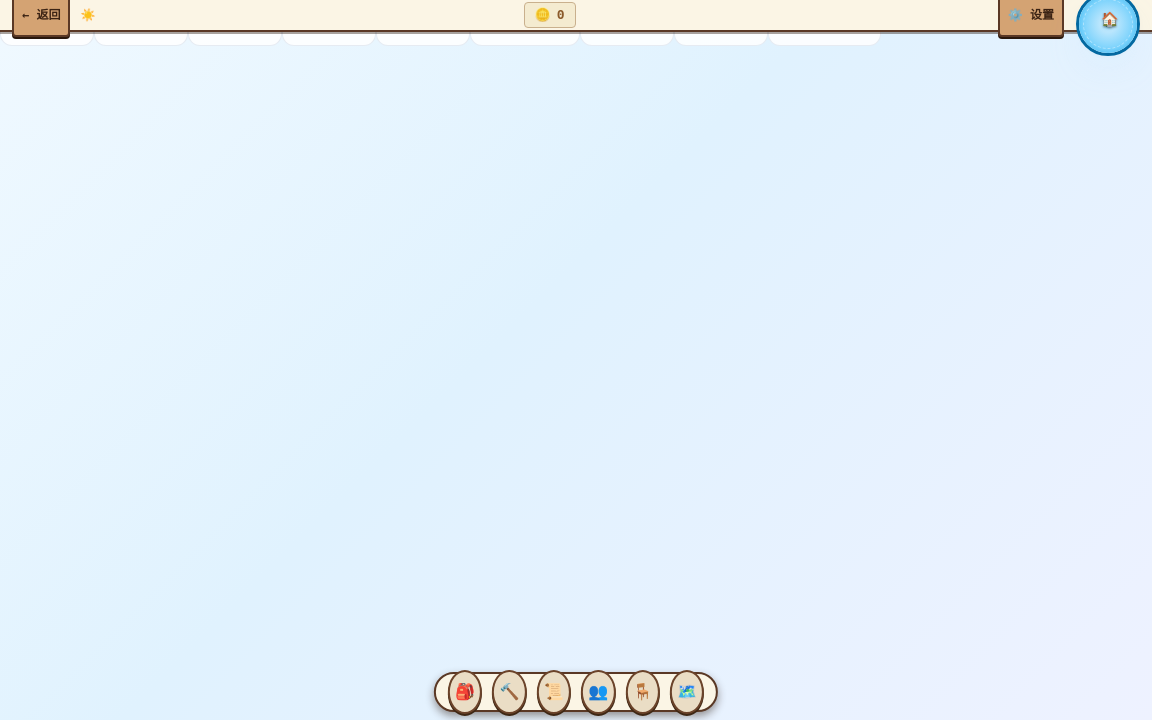
Test case: A6 · UI 像素化重构 (CabinHud) › 弹窗打开时点别的工具按钮是切换内容，而不是静默关闭
Click the button with test id "hud-btn-backpack".
click(465, 692)  # box [448, 670, 482, 714]
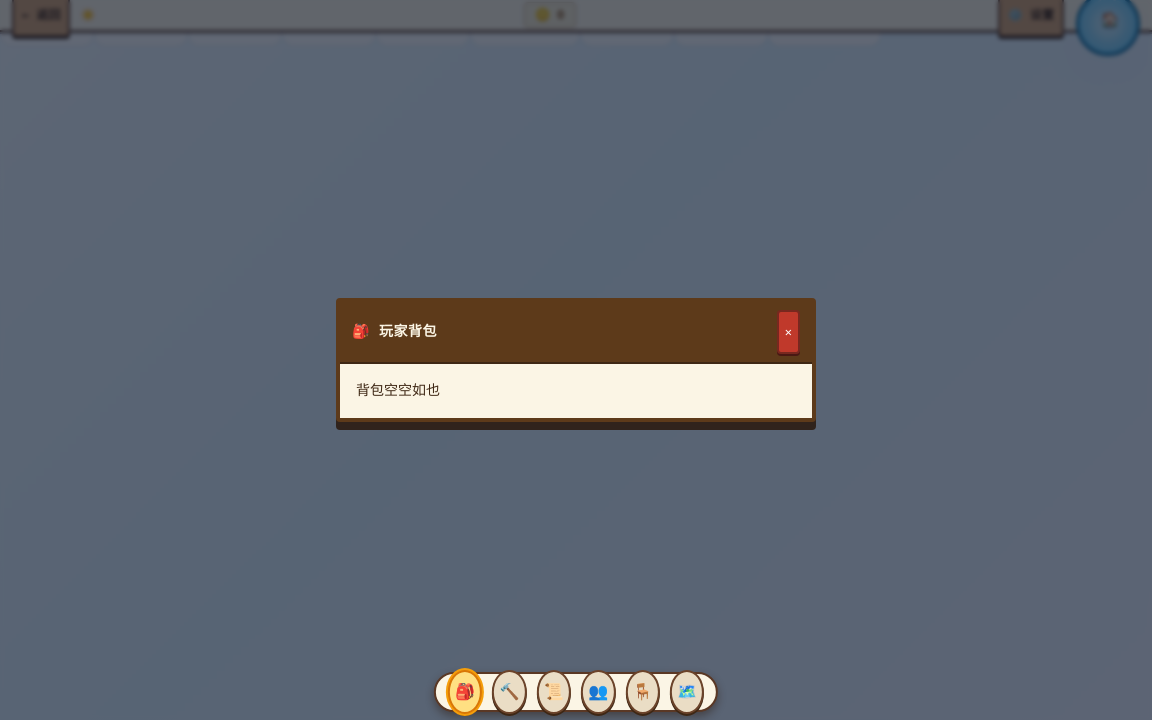
expect the dialog with test id "pixel-modal-backpack" is shown: met, box [336, 298, 816, 422]
Click the button with test id "hud-btn-craft".
click(510, 692)  # box [492, 670, 527, 714]
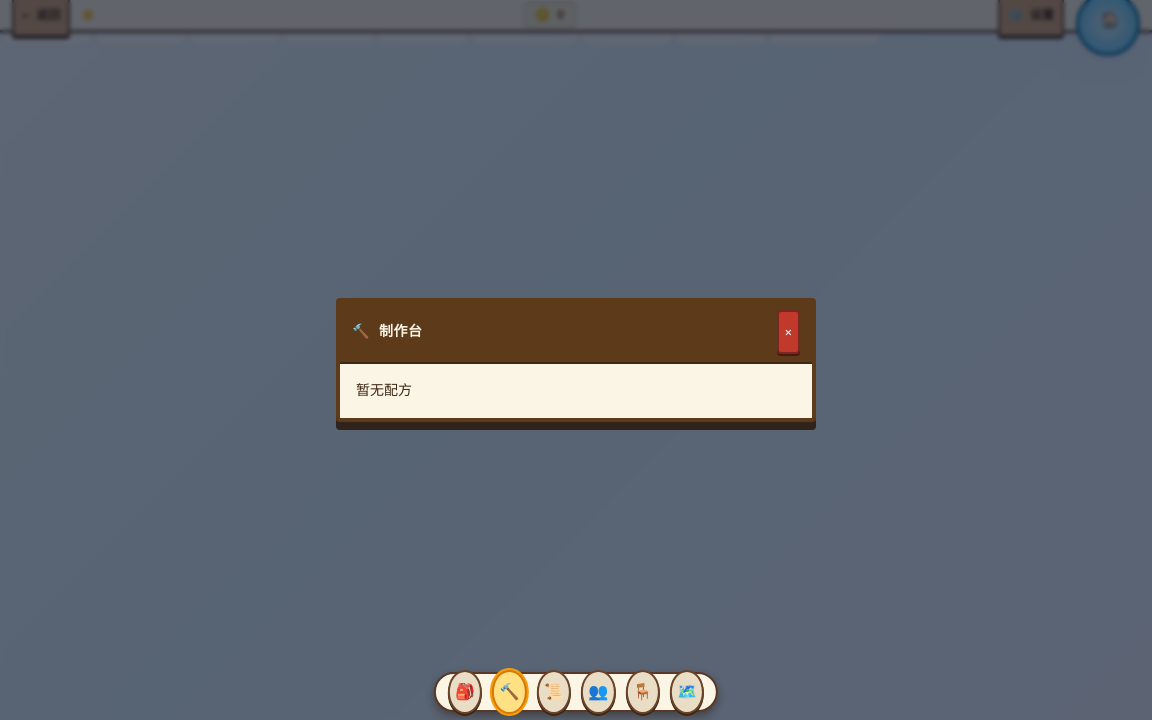
expect the dialog with test id "pixel-modal-craft" is shown: met, box [336, 298, 816, 422]
